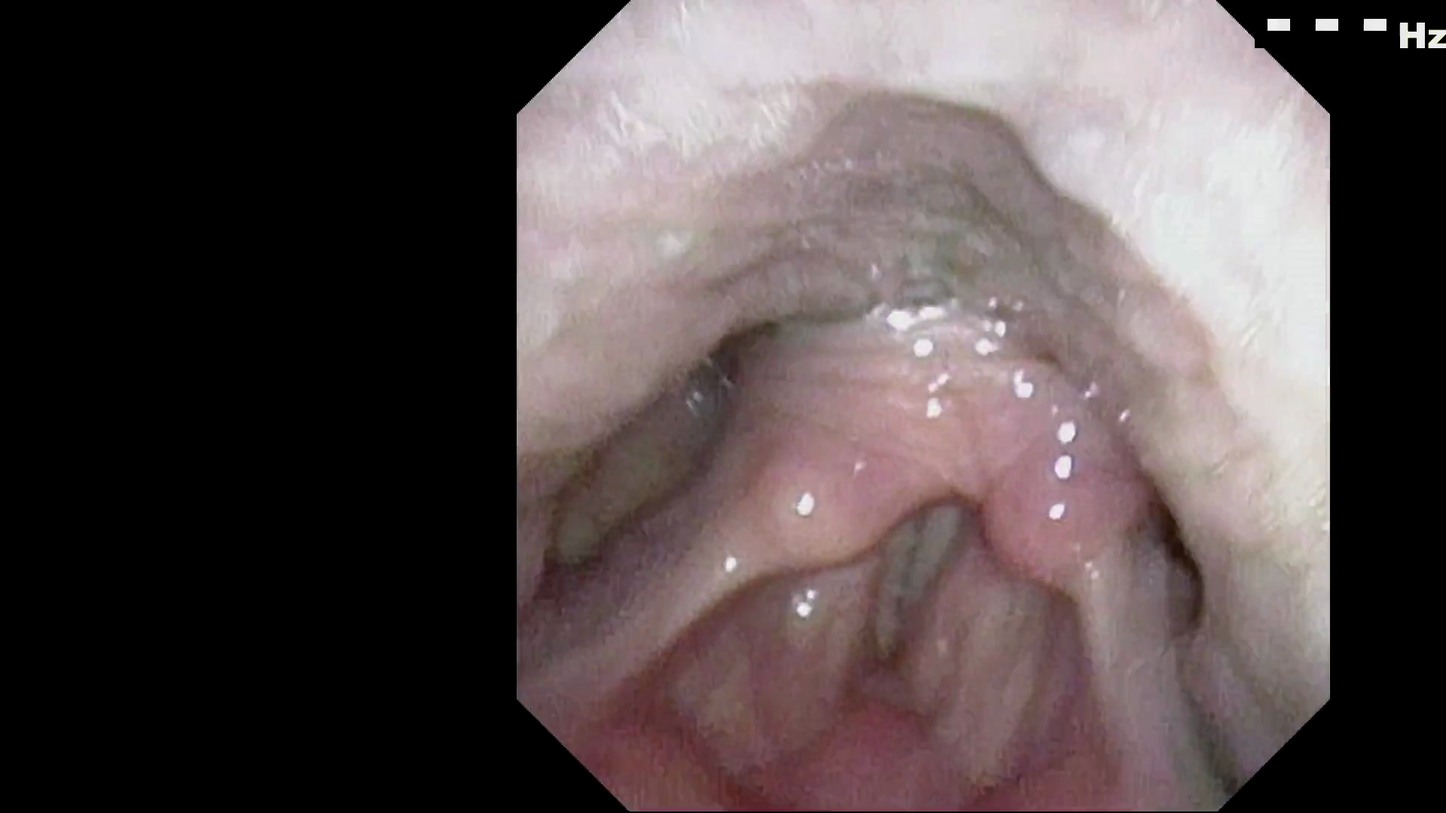epiglottis: (579, 354, 1005, 543)
trachea: (859, 456, 1005, 659)
